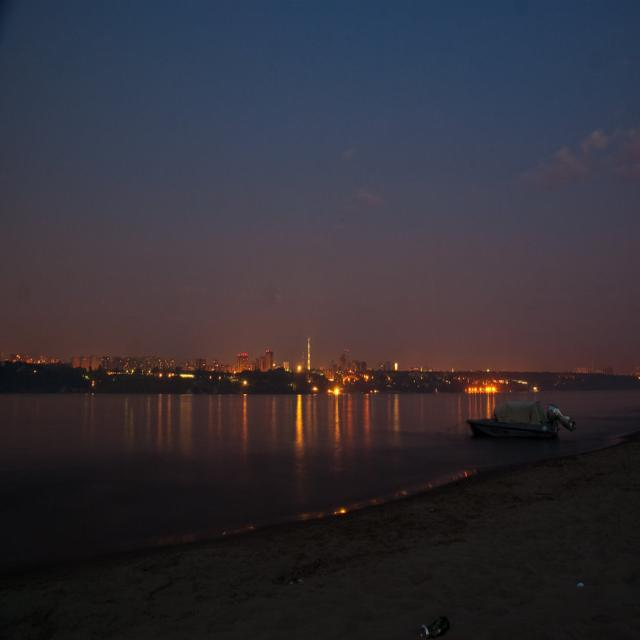Boat: (464, 386, 575, 449)
